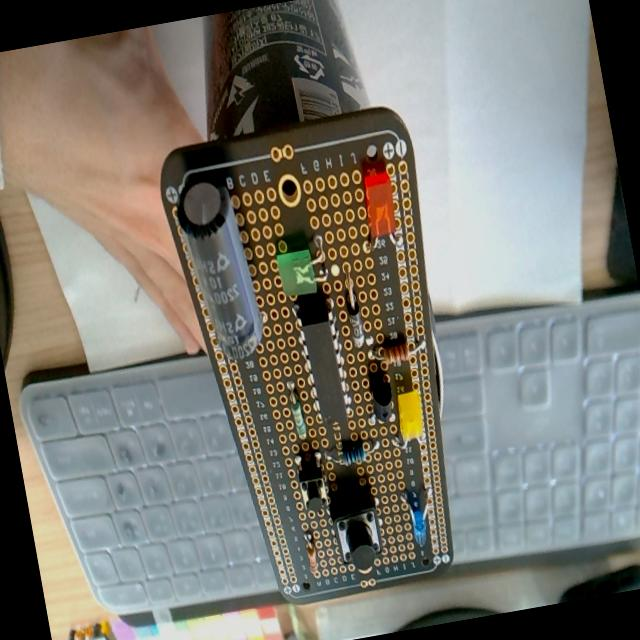Electrolytic capacitor: (170, 171, 269, 366)
IC: (288, 288, 356, 430)
diode: (339, 266, 367, 349)
led: (352, 167, 406, 256), (272, 232, 330, 299), (399, 486, 438, 550), (393, 386, 426, 441)
resistor: (370, 334, 428, 366), (285, 379, 307, 438), (338, 439, 368, 466), (304, 538, 320, 577)
switch: (327, 487, 387, 576), (295, 455, 328, 514)
transistor: (367, 371, 396, 424)
